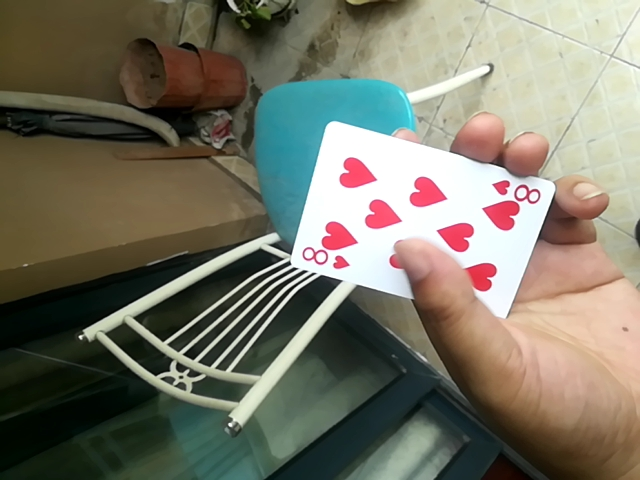hx 8: (284, 122, 550, 314)
